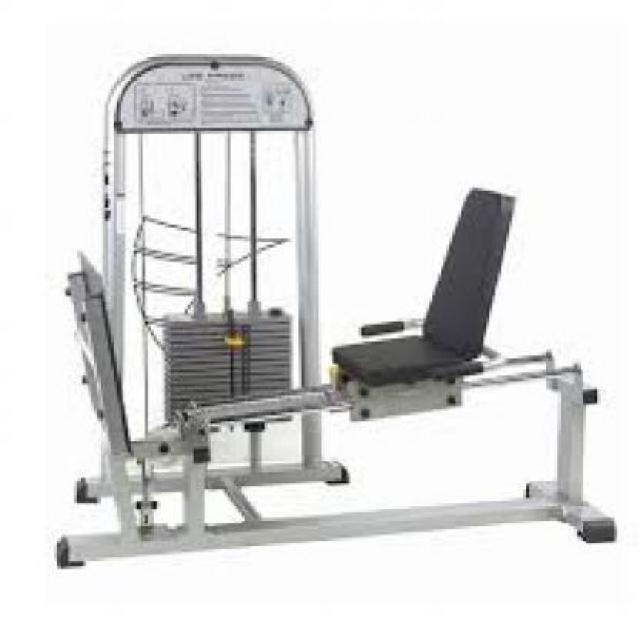leg press: (43, 40, 625, 578)
